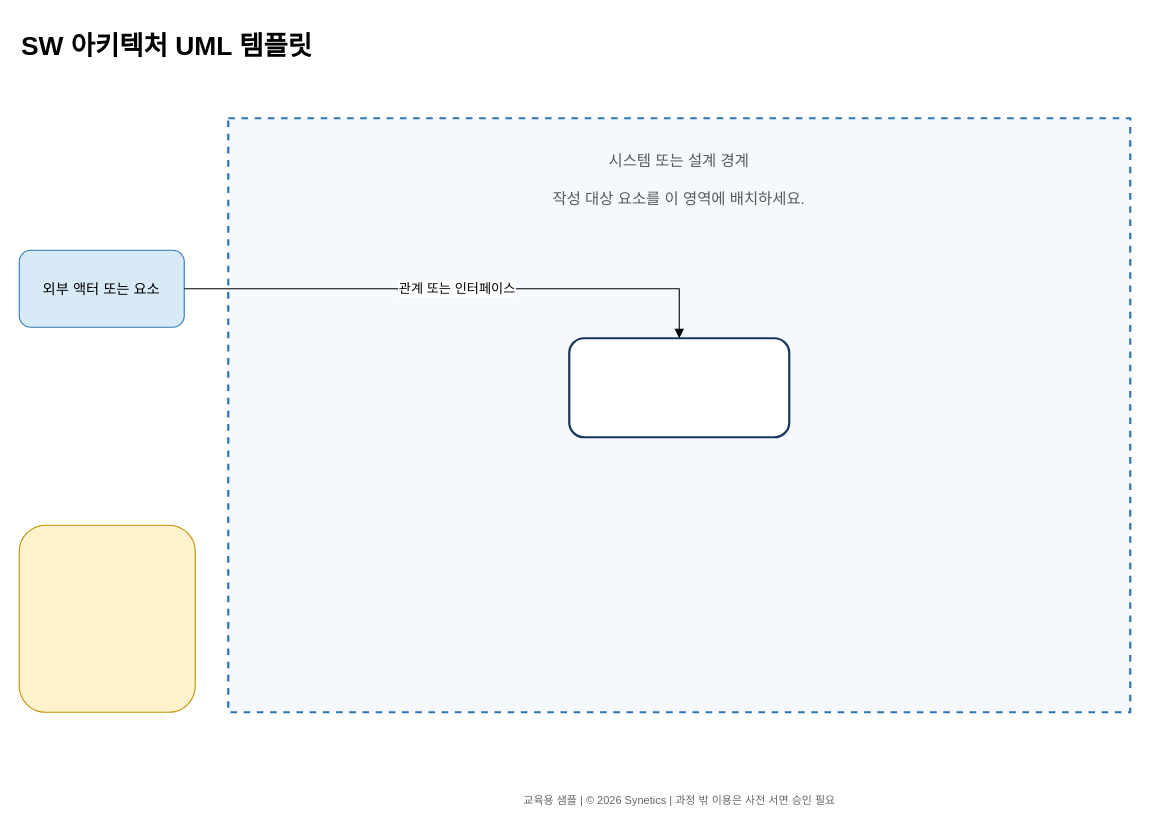
Image size: 1151x835. Some labels were removed from this diagram. The centre of each missing label's shape, as x and y in pixels:
"대상 요소 ID 요소 명칭" goes at (x=679, y=387).
"작성 안내 1. 소프트웨어 요소와 계층 2. 제공 및 요구 인터페이스 3. 허용된 의존 방향 4. 요구사항 할당 ID" goes at (x=106, y=618).
